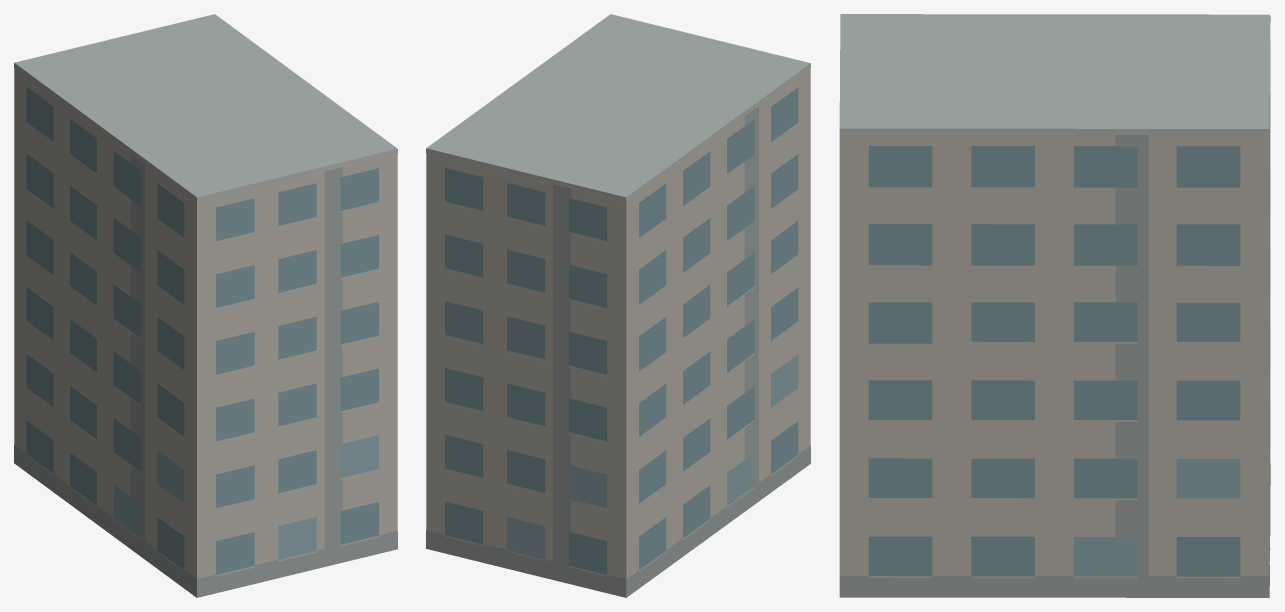
File: survey-upis-32700565.glb
3 renders of one model, left to right at view 1: azimuth 30°, elevation 25°; view 2: azimuth 150°, elevation 25°; view 3: azimuth 270°, elevation 25°, orthographic. The views are drawn at different scales.
Visible parts, largest first — view 1: survey-upis-32700565.tmp; view 2: survey-upis-32700565.tmp; view 3: survey-upis-32700565.tmp.
Boxes of the visible parts, x1=… form: survey-upis-32700565.tmp: x1=14, y1=14, x2=397, y2=597; survey-upis-32700565.tmp: x1=426, y1=14, x2=810, y2=597; survey-upis-32700565.tmp: x1=839, y1=14, x2=1270, y2=597.
Size of the model in its own units: 9.91 by 18.8 by 15.67.
